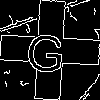G: (25, 25, 66, 73)
